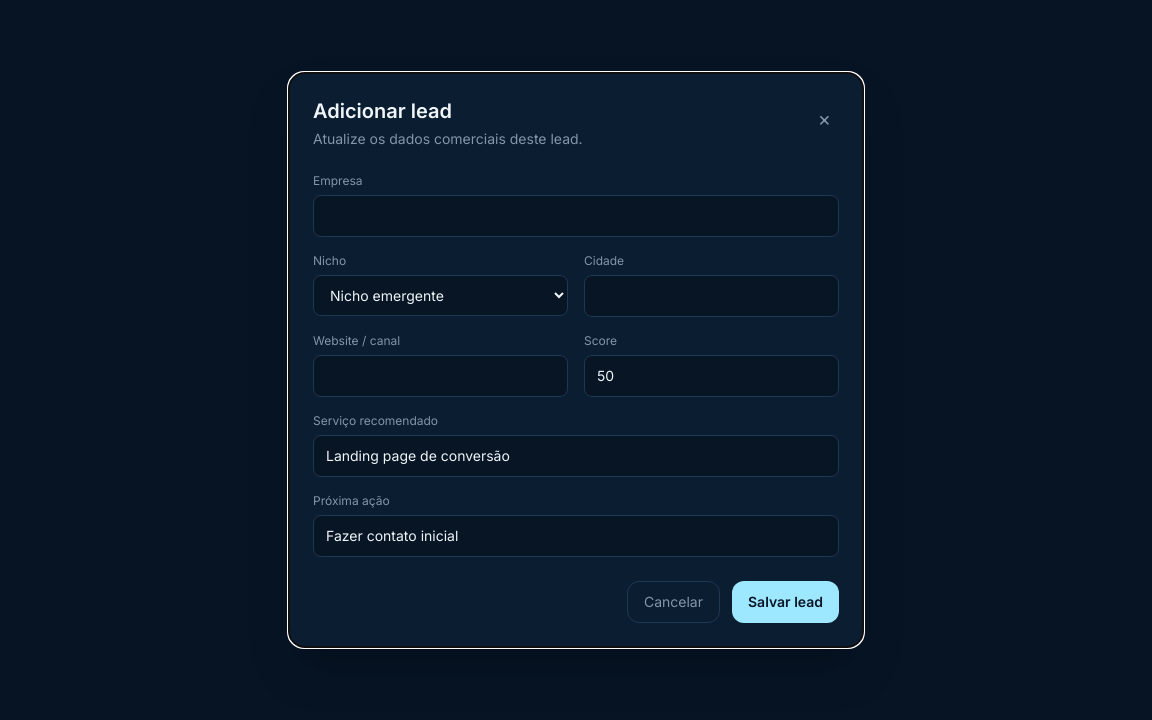
Test: LeadFormDialog › exibe validação para campos obrigatórios
This screenshot has width=1152, height=720.
Click the button "Salvar lead": click(786, 602) [732,581,839,623]
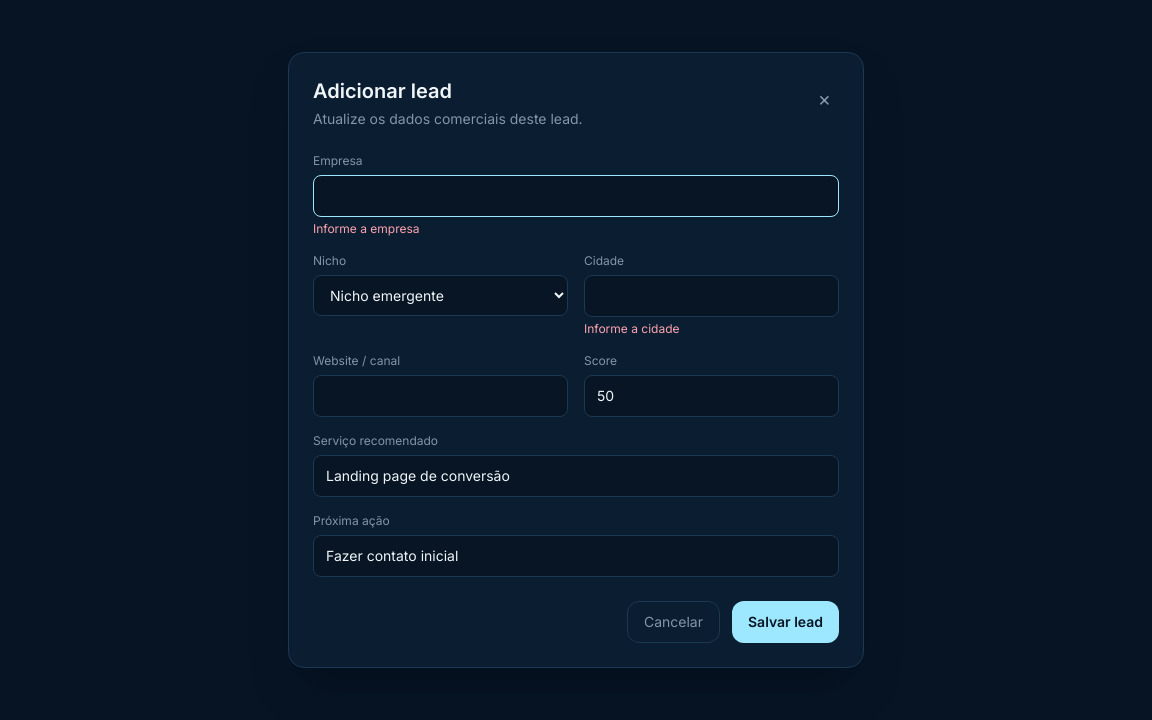
Result: the text "Informe a empresa" is shown at [313,221,420,236]
Result: the text "Informe a cidade" is shown at [584,321,680,336]
